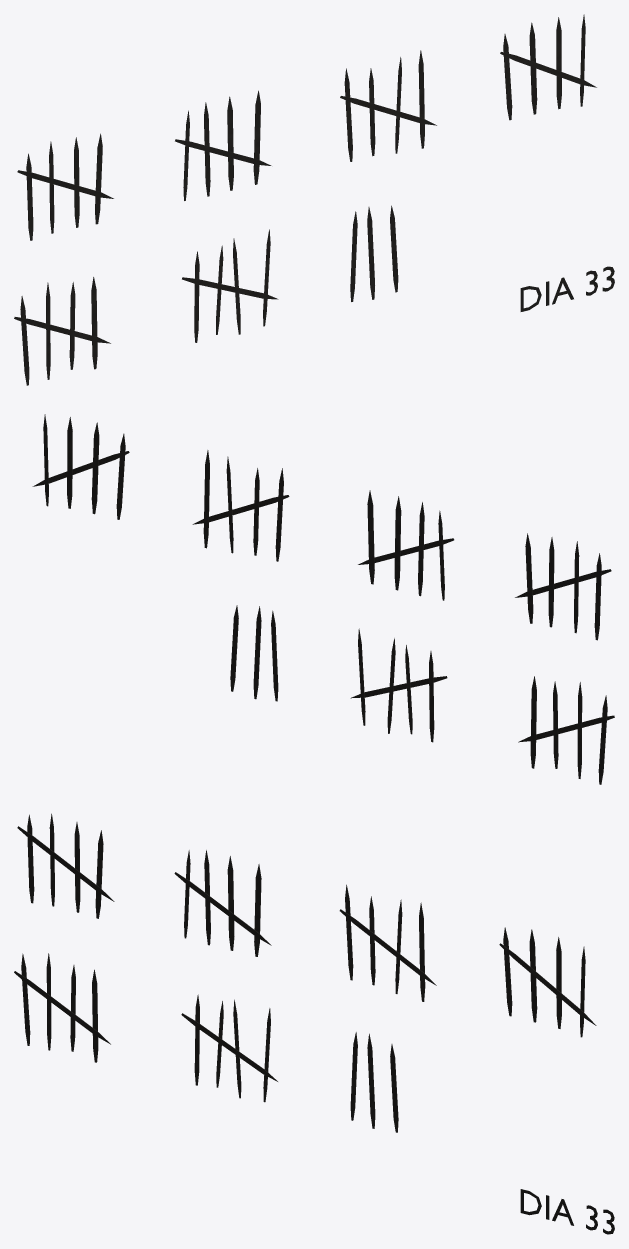
File: contagem_dias.glb
The picture shows the model from 3 angles, top to bottom: view 1: azimuth 30°, elevation 25°; view 2: azimuth 150°, elevation 25°; view 3: azimuth 330°, elevation 25°; orthographic projection.
Parts seen in each view (by area): view 1: riscos; view 2: riscos; view 3: riscos.
Boxes of the visible parts, left/top/right/bottom form: riscos: left=14, top=14, right=614, bottom=385; riscos: left=32, top=414, right=614, bottom=784; riscos: left=14, top=813, right=614, bottom=1234.
Bounding box in the file's own units: 0.8886 × 0.4062 × 0.0019.
Materials: 1 (1 with a texture image).
